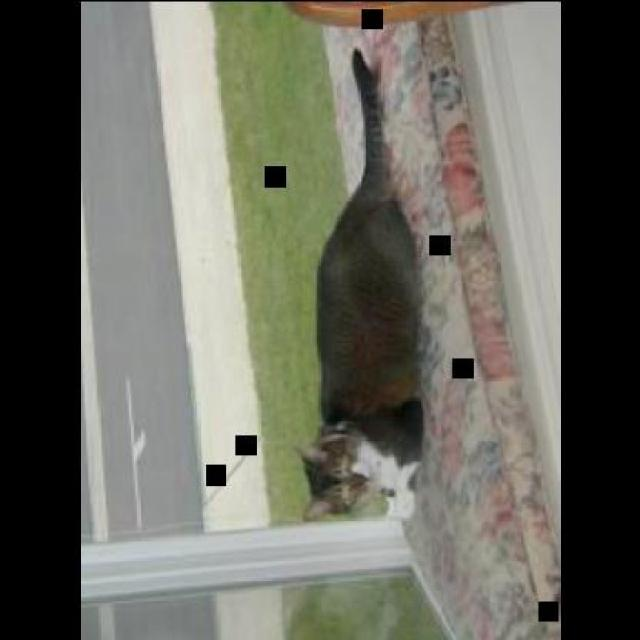unauthorized: (294, 44, 424, 522)
